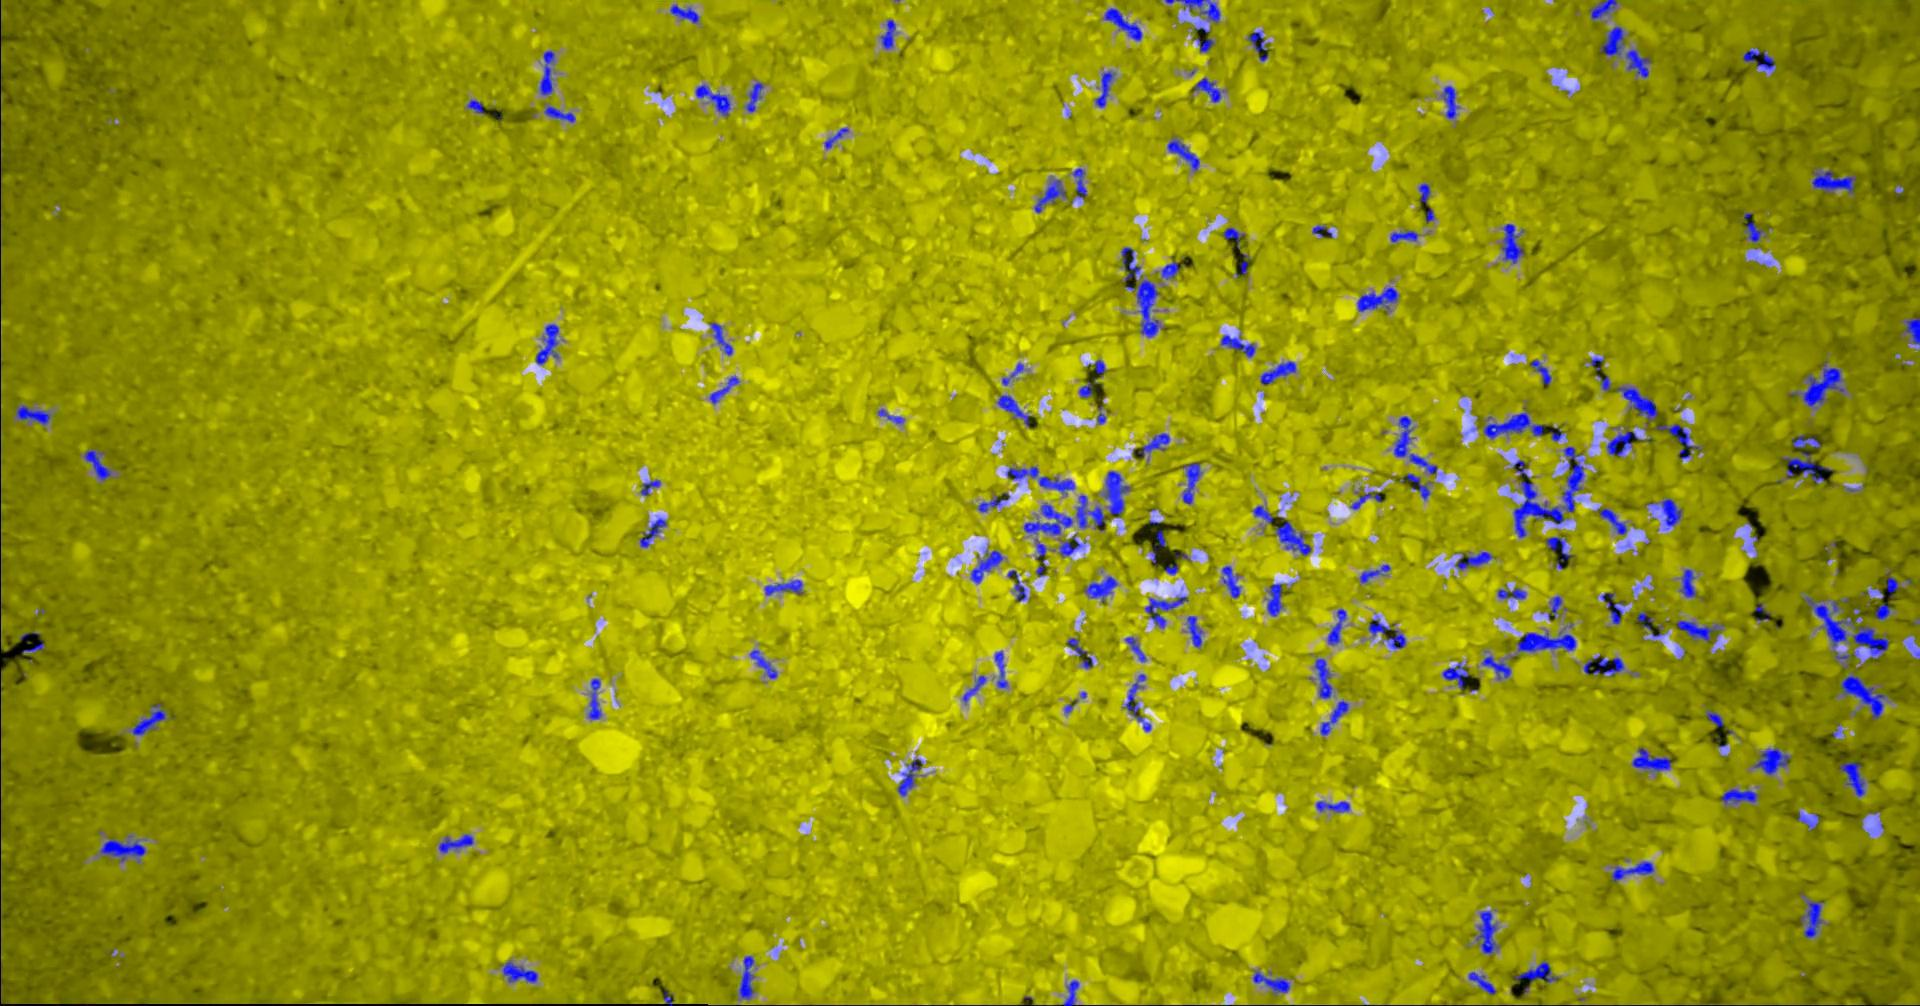ant: (1806, 596, 1855, 647), (1790, 361, 1845, 406), (1396, 415, 1437, 473), (1784, 434, 1834, 483), (1841, 674, 1886, 719), (1128, 279, 1161, 337), (1008, 466, 1076, 494), (1484, 412, 1547, 438), (1657, 423, 1702, 459), (1025, 503, 1074, 533), (1618, 386, 1658, 420), (1145, 596, 1189, 627), (1277, 520, 1312, 555), (1166, 0, 1222, 22), (1519, 631, 1577, 652), (1105, 470, 1131, 514), (1854, 625, 1890, 658), (1106, 8, 1143, 39), (133, 702, 168, 735), (697, 84, 731, 116), (1370, 619, 1407, 648), (971, 550, 1004, 582), (102, 838, 147, 861), (1321, 700, 1350, 735), (1359, 286, 1399, 311), (1170, 138, 1201, 170), (999, 395, 1031, 427), (1036, 179, 1067, 212), (1078, 495, 1107, 530), (1813, 169, 1857, 192), (1477, 909, 1500, 953), (537, 323, 560, 365), (1633, 747, 1672, 771), (1755, 747, 1790, 774), (899, 758, 924, 795), (1547, 535, 1575, 568), (1515, 962, 1559, 982), (1503, 224, 1526, 263), (1128, 674, 1147, 721), (1086, 575, 1119, 602), (1677, 620, 1721, 640), (1585, 654, 1625, 676), (1841, 761, 1865, 796), (1613, 861, 1655, 882), (1801, 901, 1823, 937), (1608, 431, 1641, 456), (750, 649, 778, 678), (1255, 970, 1291, 992), (1262, 361, 1297, 384), (711, 376, 740, 403), (1599, 507, 1628, 533), (641, 518, 668, 547), (86, 448, 112, 479), (1183, 462, 1203, 503), (1222, 335, 1257, 357), (1403, 473, 1431, 499), (1443, 662, 1470, 688), (504, 960, 538, 982), (1601, 25, 1625, 56), (711, 323, 734, 354), (1316, 658, 1333, 699), (1743, 47, 1777, 69), (1627, 50, 1652, 77), (1196, 77, 1225, 102), (1483, 655, 1512, 680), (1603, 592, 1625, 622), (541, 50, 556, 94), (1097, 71, 1116, 107), (1591, 357, 1611, 390), (1140, 433, 1171, 455), (740, 955, 756, 998), (1457, 551, 1493, 569), (1123, 246, 1142, 281), (18, 405, 52, 424), (1470, 970, 1497, 995), (964, 674, 987, 702), (1330, 608, 1347, 644), (439, 835, 475, 852), (1743, 212, 1764, 243), (979, 492, 1011, 511), (1223, 565, 1242, 597), (1250, 30, 1269, 61), (1663, 498, 1683, 528), (766, 579, 804, 594), (1722, 788, 1759, 803), (1444, 85, 1460, 118), (1352, 492, 1383, 509), (825, 127, 850, 149), (670, 4, 700, 22), (1361, 564, 1390, 582), (1010, 570, 1027, 600), (590, 678, 603, 719), (996, 650, 1010, 687), (546, 105, 577, 122), (1269, 583, 1284, 616), (747, 83, 764, 111), (1003, 362, 1025, 385), (1531, 359, 1552, 384), (1126, 636, 1147, 661), (1592, 0, 1618, 19), (1189, 615, 1204, 647), (1681, 568, 1698, 597), (1062, 535, 1083, 556), (1153, 528, 1167, 561), (1074, 168, 1088, 198), (1224, 227, 1244, 248), (883, 19, 897, 48), (1905, 318, 1920, 344), (879, 409, 905, 423), (1064, 981, 1079, 1005), (1079, 379, 1098, 398), (1069, 636, 1088, 655), (1392, 230, 1420, 243), (1317, 801, 1351, 812), (1255, 506, 1274, 523), (1799, 812, 1818, 829), (1549, 594, 1563, 619), (1037, 542, 1048, 575), (1498, 587, 1528, 598), (1163, 260, 1180, 279), (643, 479, 662, 495), (1638, 612, 1655, 631), (1888, 572, 1900, 598), (24, 639, 46, 653), (1237, 253, 1250, 276), (1090, 359, 1106, 376), (1708, 710, 1724, 727), (1196, 37, 1215, 51), (1314, 225, 1335, 238), (1876, 603, 1892, 619), (1420, 183, 1432, 202), (469, 99, 485, 113), (1550, 427, 1566, 439), (665, 989, 674, 1005)
